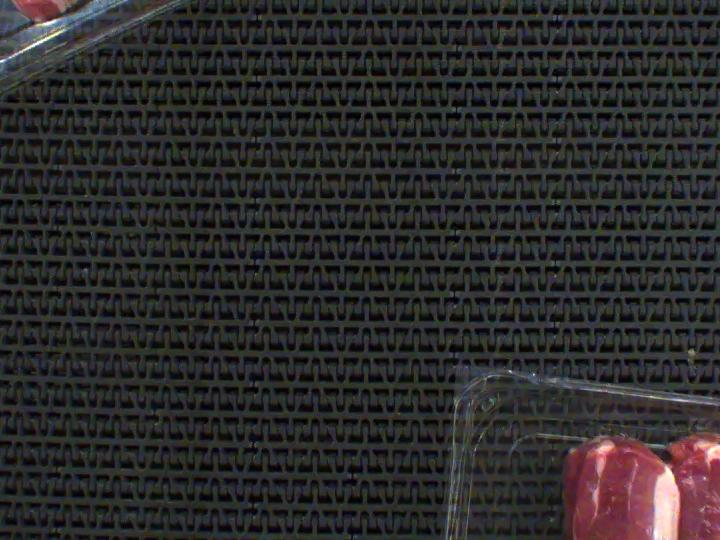packaging-error: (678, 409, 720, 446)
